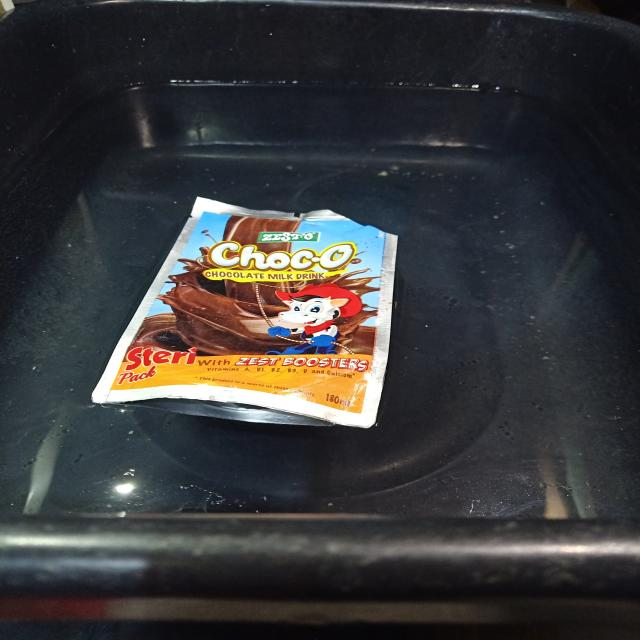Plastic Pouch: (92, 197, 397, 427)
